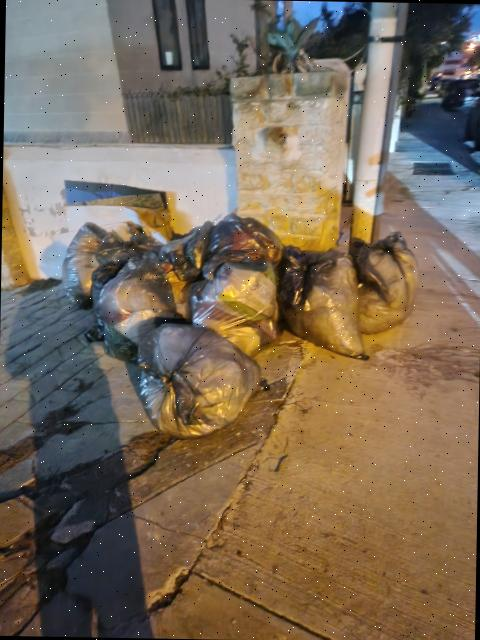Other: (64, 180, 179, 243)
Recyclable -Grey-: (137, 319, 260, 438), (277, 246, 366, 358), (97, 251, 178, 361), (190, 261, 278, 357), (350, 232, 418, 335), (91, 223, 160, 305), (159, 222, 212, 319), (201, 214, 282, 276), (62, 223, 107, 306)
